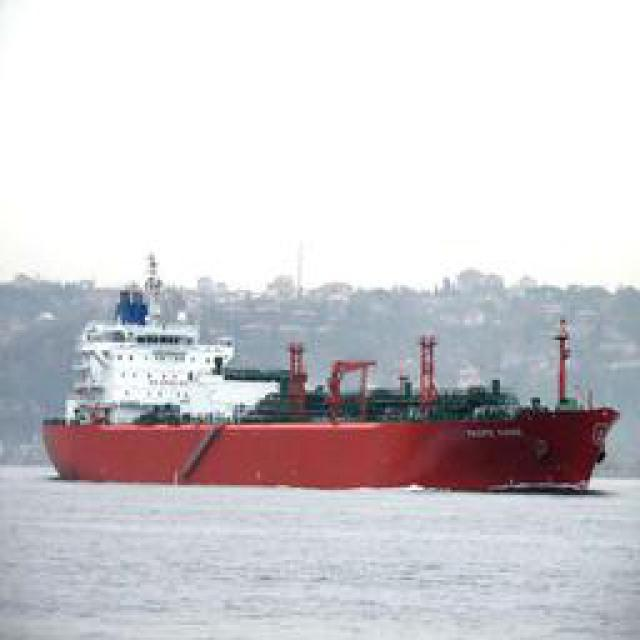Ship: (47, 290, 625, 493)
